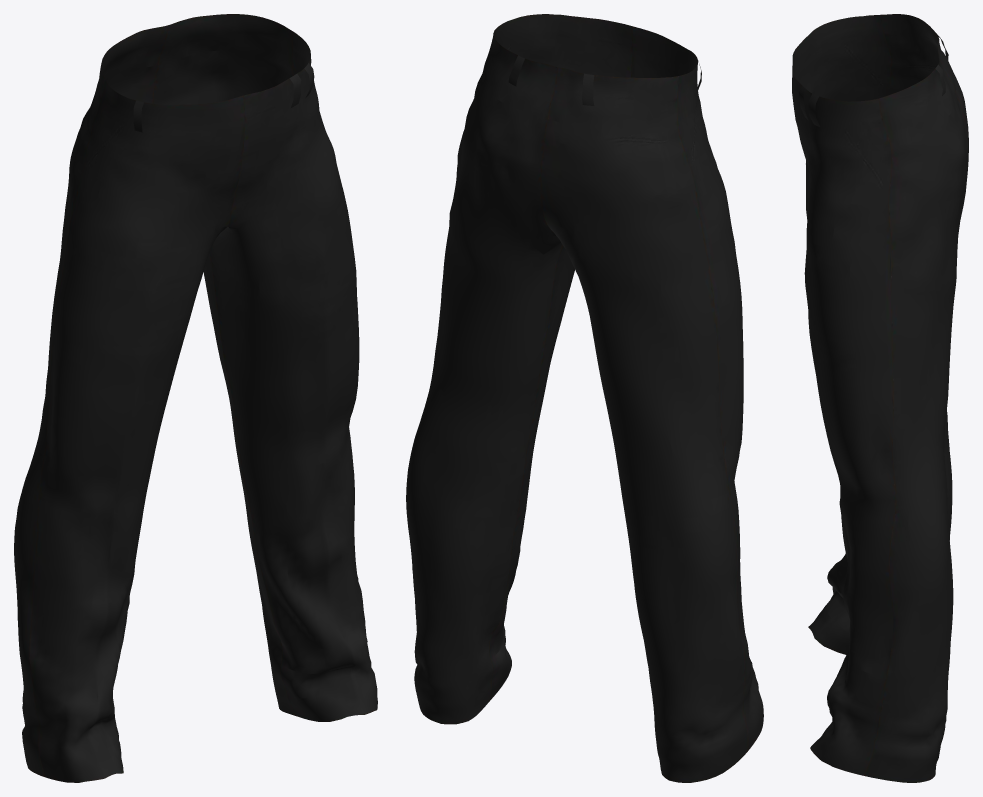
File: mindfront-male-trousers-2.glb
3 views of the same model, side by side, from view 1: azimuth 30°, elevation 25°; view 2: azimuth 150°, elevation 25°; view 3: azimuth 270°, elevation 25° (orthographic). The views are drawn at different scales.
Parts seen in each view (by area): view 1: male trousers 2; view 2: male trousers 2; view 3: male trousers 2.
Part boxes in pixels (x1=…): male trousers 2: x1=14, y1=14, x2=377, y2=782; male trousers 2: x1=406, y1=14, x2=763, y2=782; male trousers 2: x1=792, y1=14, x2=968, y2=782.
Bounding box in the file's own units: 51.02 × 104 × 24.86.
1 material, 1 textured.
